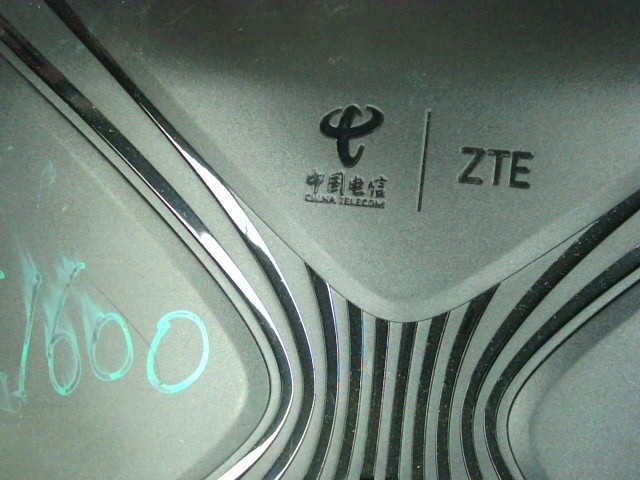AX_ZTEChinaTelecom: (297, 96, 556, 209)
